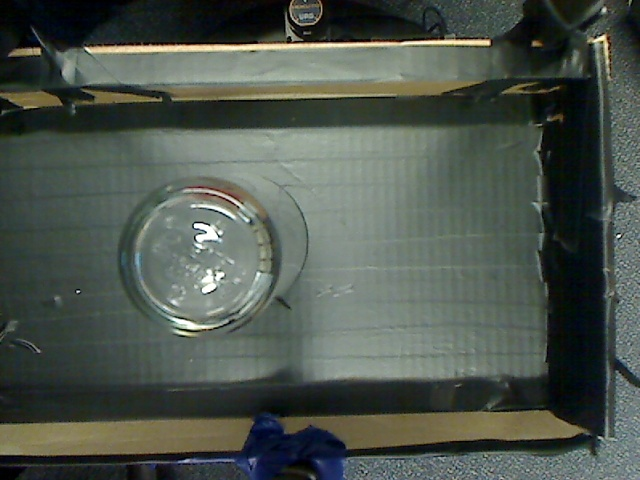cup: (106, 169, 322, 347)
